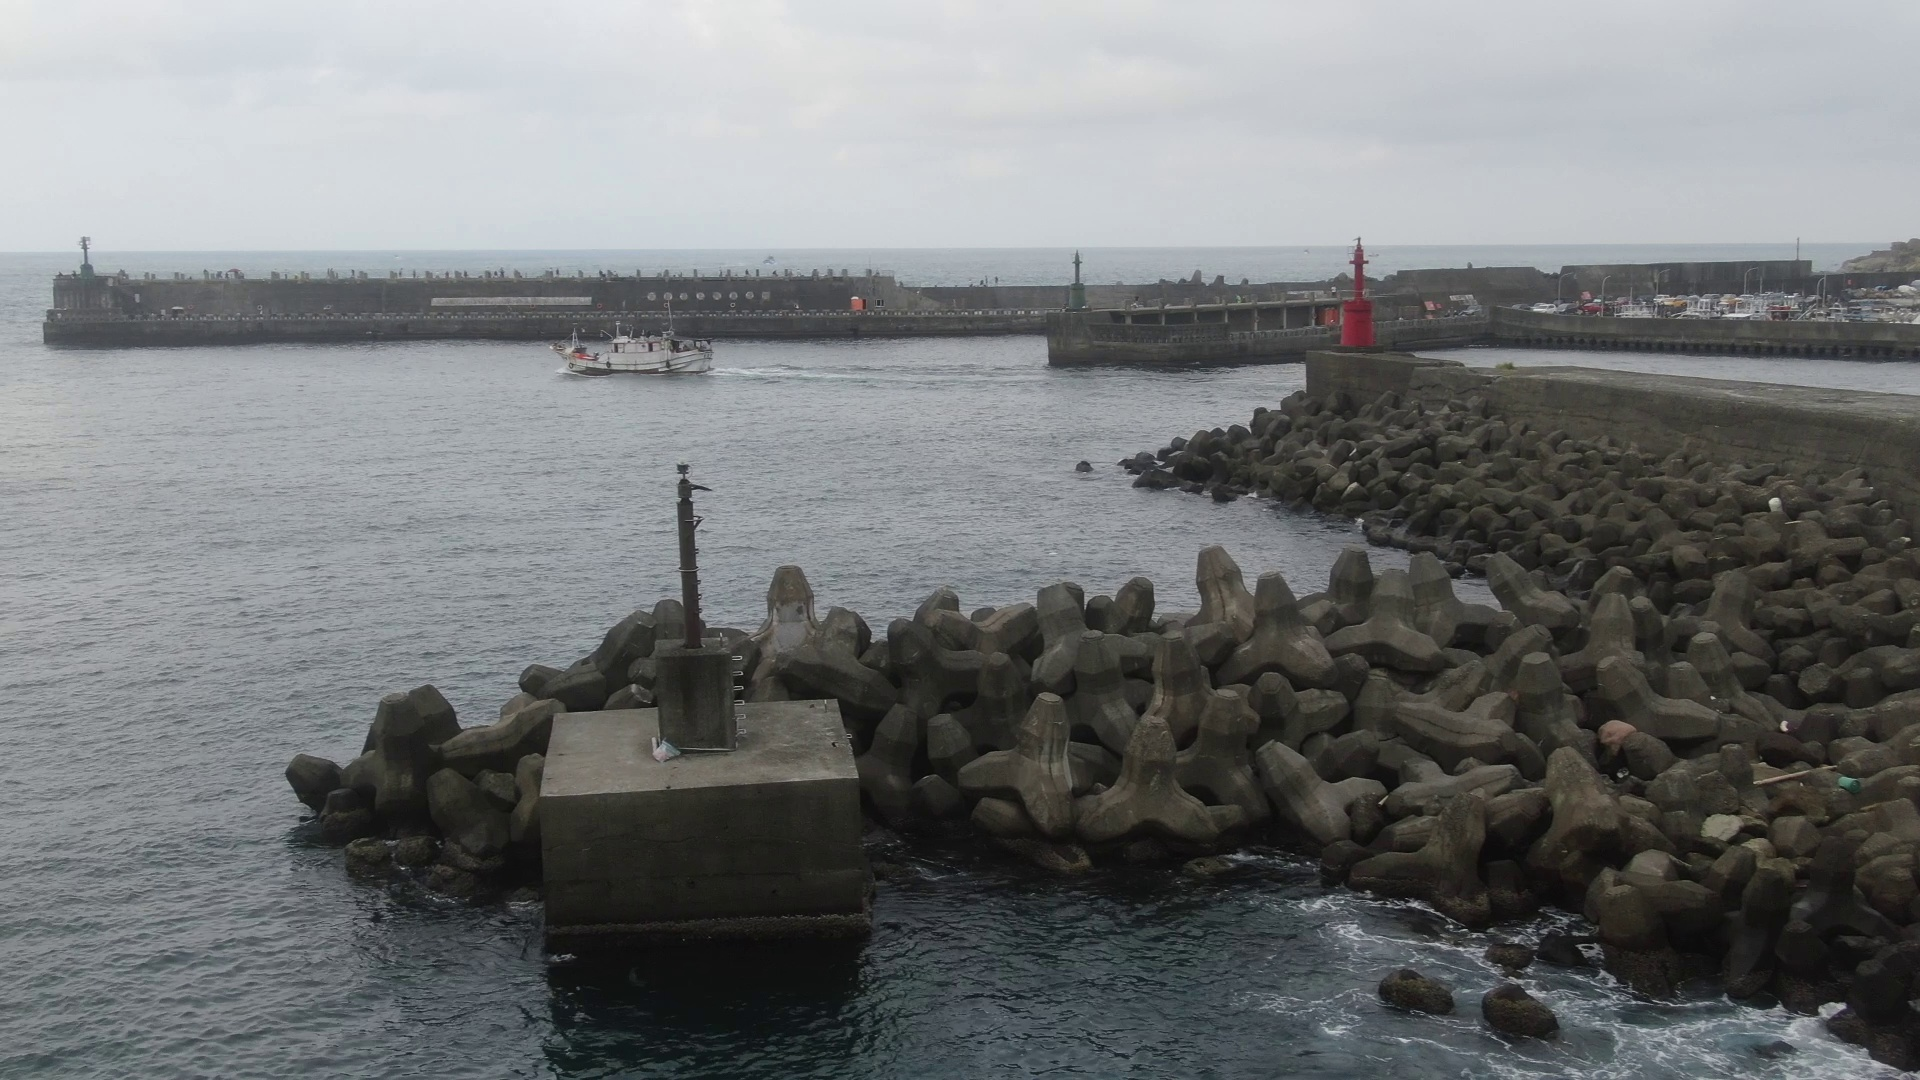garbage: (1739, 742, 1873, 806), (645, 736, 695, 764)
